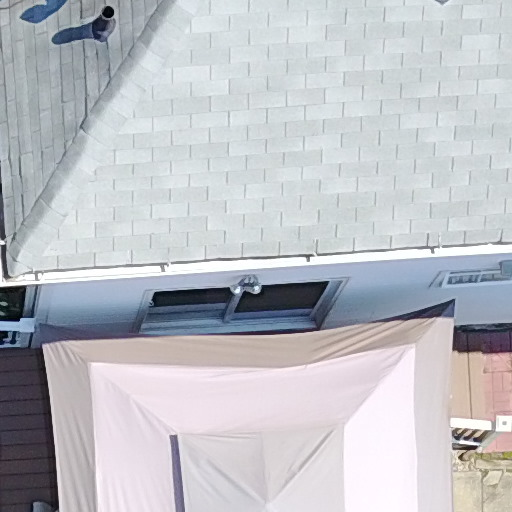umbrella: (21, 302, 477, 512)
